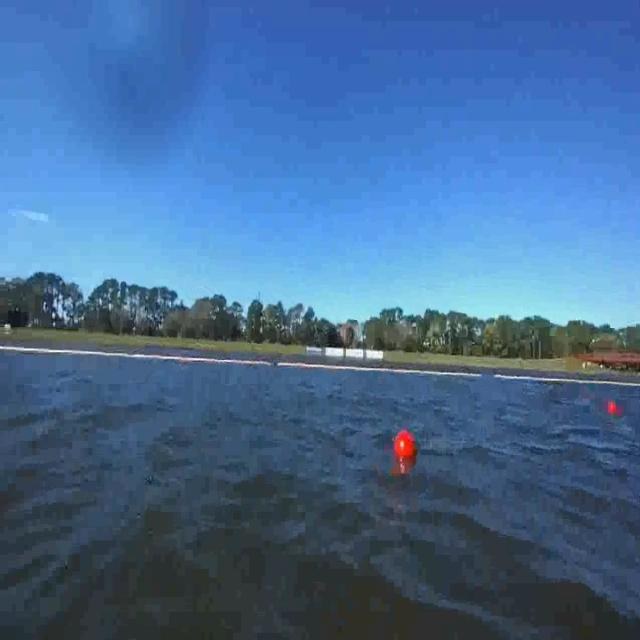red-buoy: (397, 431, 416, 458), (606, 404, 616, 416)
